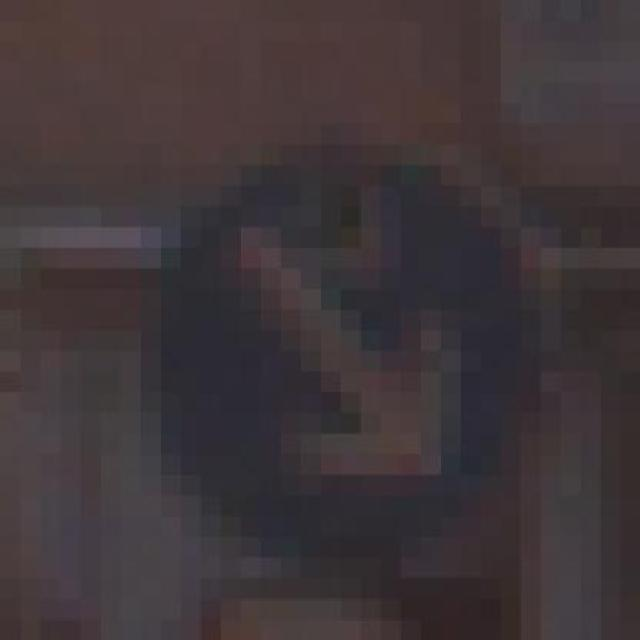Keep-Right: (120, 103, 580, 599)
